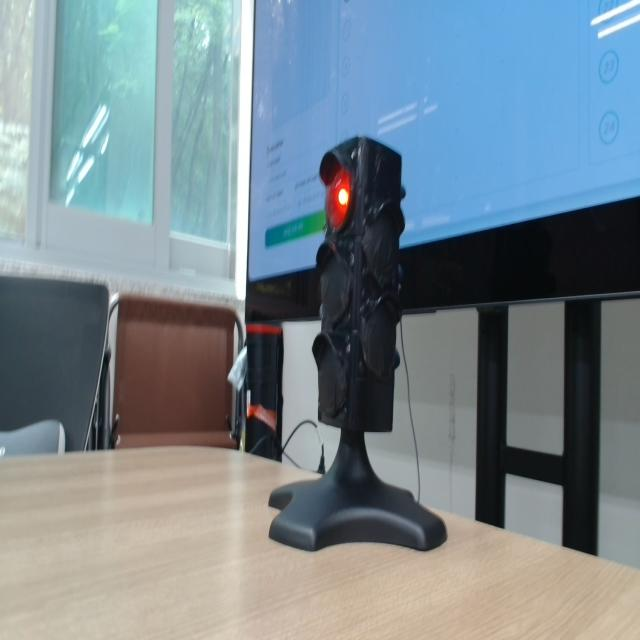red_light: (326, 168, 350, 231)
